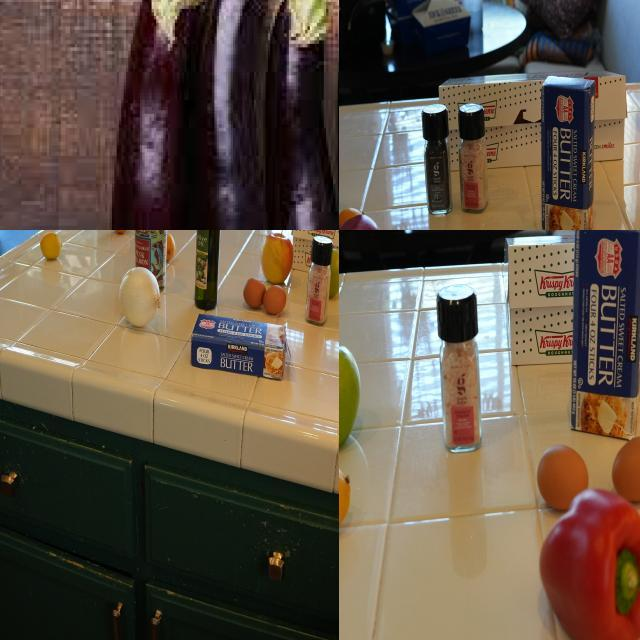bell_pepper: (526, 495, 640, 640), (422, 107, 452, 209)
egg: (536, 441, 590, 513), (610, 432, 640, 505), (265, 284, 293, 320), (244, 274, 262, 314)
eggplant: (110, 1, 215, 231), (269, 1, 340, 231), (215, 1, 266, 231)
onion: (110, 267, 164, 329)
